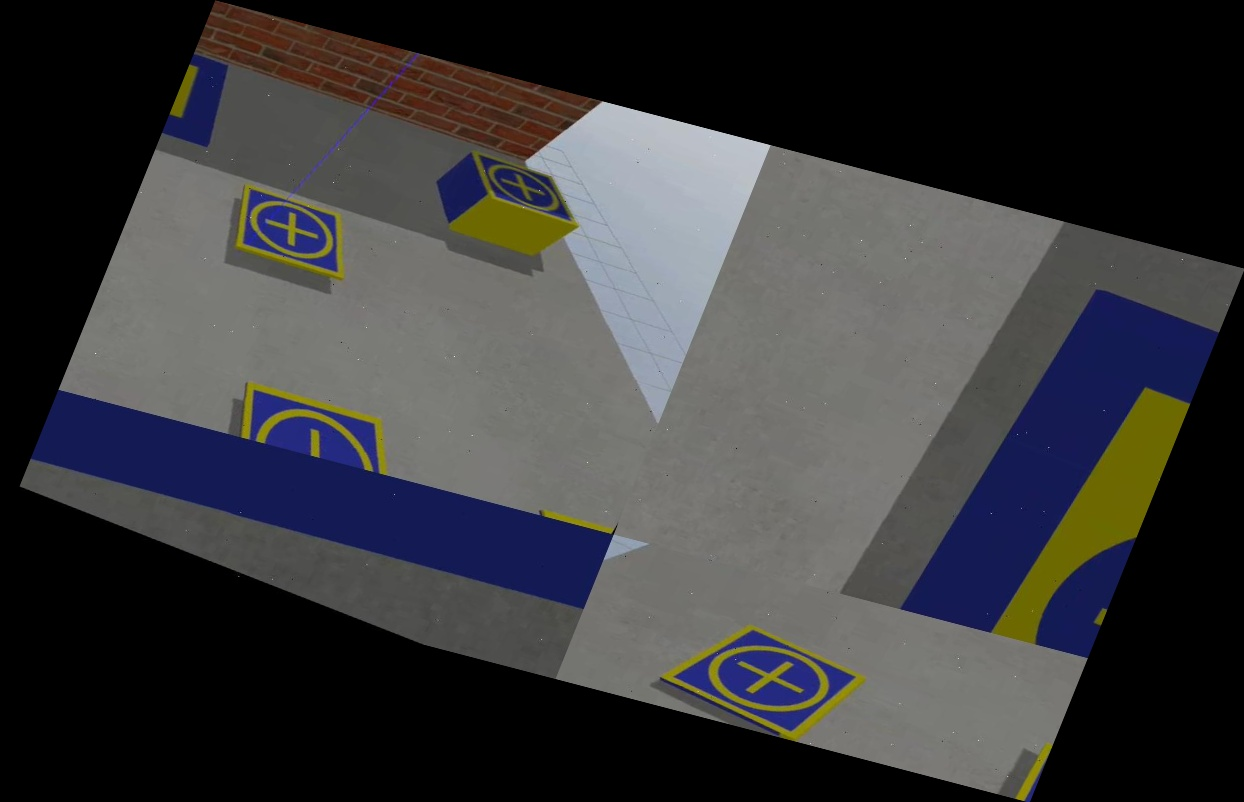large_base: (0, 390, 613, 678), (893, 263, 1226, 658), (153, 25, 265, 170)
small_base: (642, 592, 883, 752), (204, 360, 472, 490), (202, 173, 383, 296), (444, 144, 604, 237)
